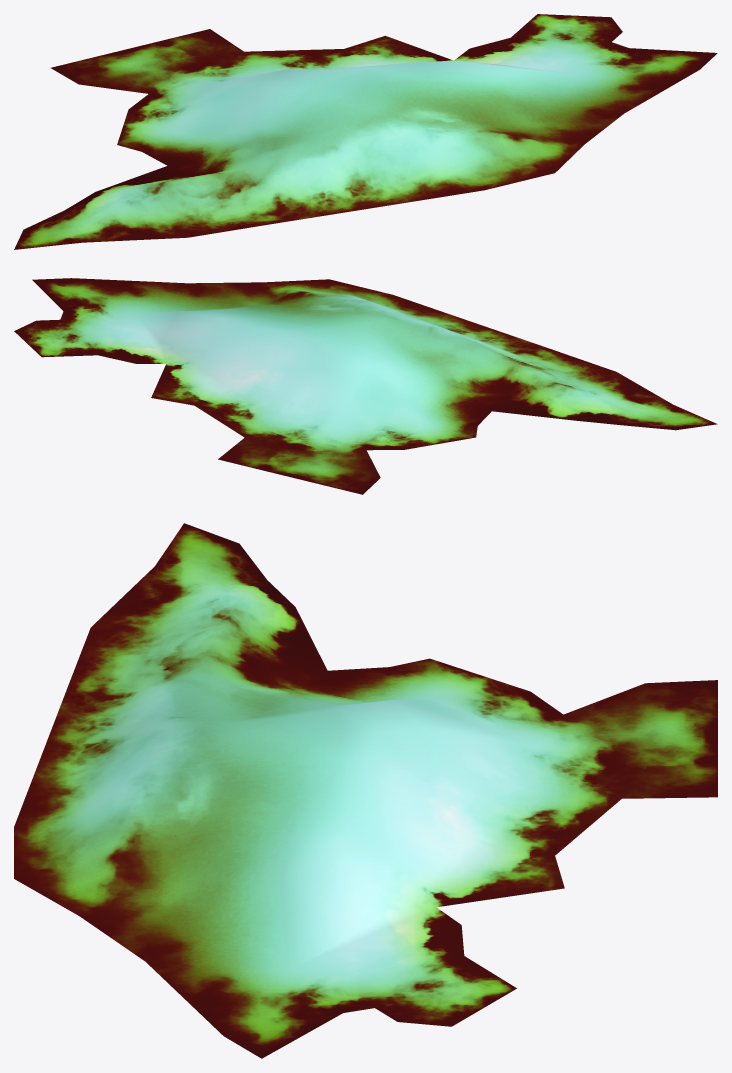
The model's file is Mesh_QuantumMetaCloud_10.FBX.
The picture shows the model from 3 angles, top to bottom: view 1: azimuth 30°, elevation 25°; view 2: azimuth 150°, elevation 25°; view 3: azimuth 270°, elevation 25°; orthographic projection. The views are drawn at different scales.
Visible parts, largest first — view 1: Mesh_QuantumMetaCloud_10; view 2: Mesh_QuantumMetaCloud_10; view 3: Mesh_QuantumMetaCloud_10.
Boxes of the visible parts, x1,y1,x2,y2 form: Mesh_QuantumMetaCloud_10: [14, 14, 717, 249]; Mesh_QuantumMetaCloud_10: [14, 278, 717, 494]; Mesh_QuantumMetaCloud_10: [14, 523, 717, 1058].
Bounding box in the file's own units: 900 × 500 × 48.85.
